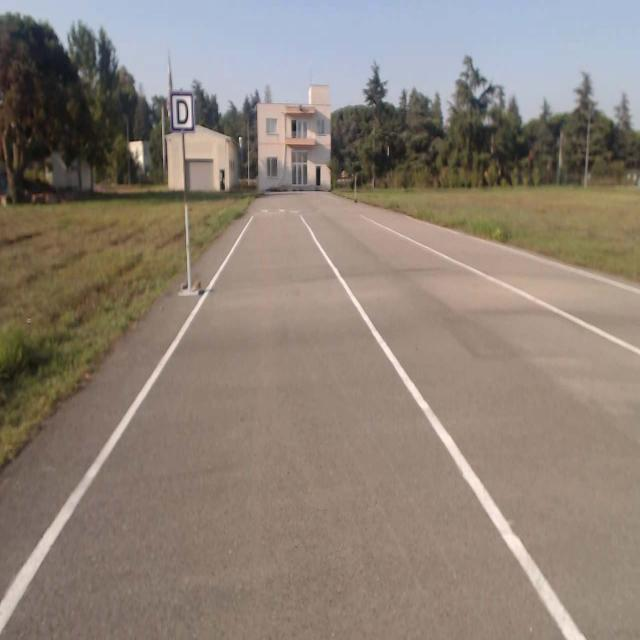durak: (170, 90, 195, 132)
